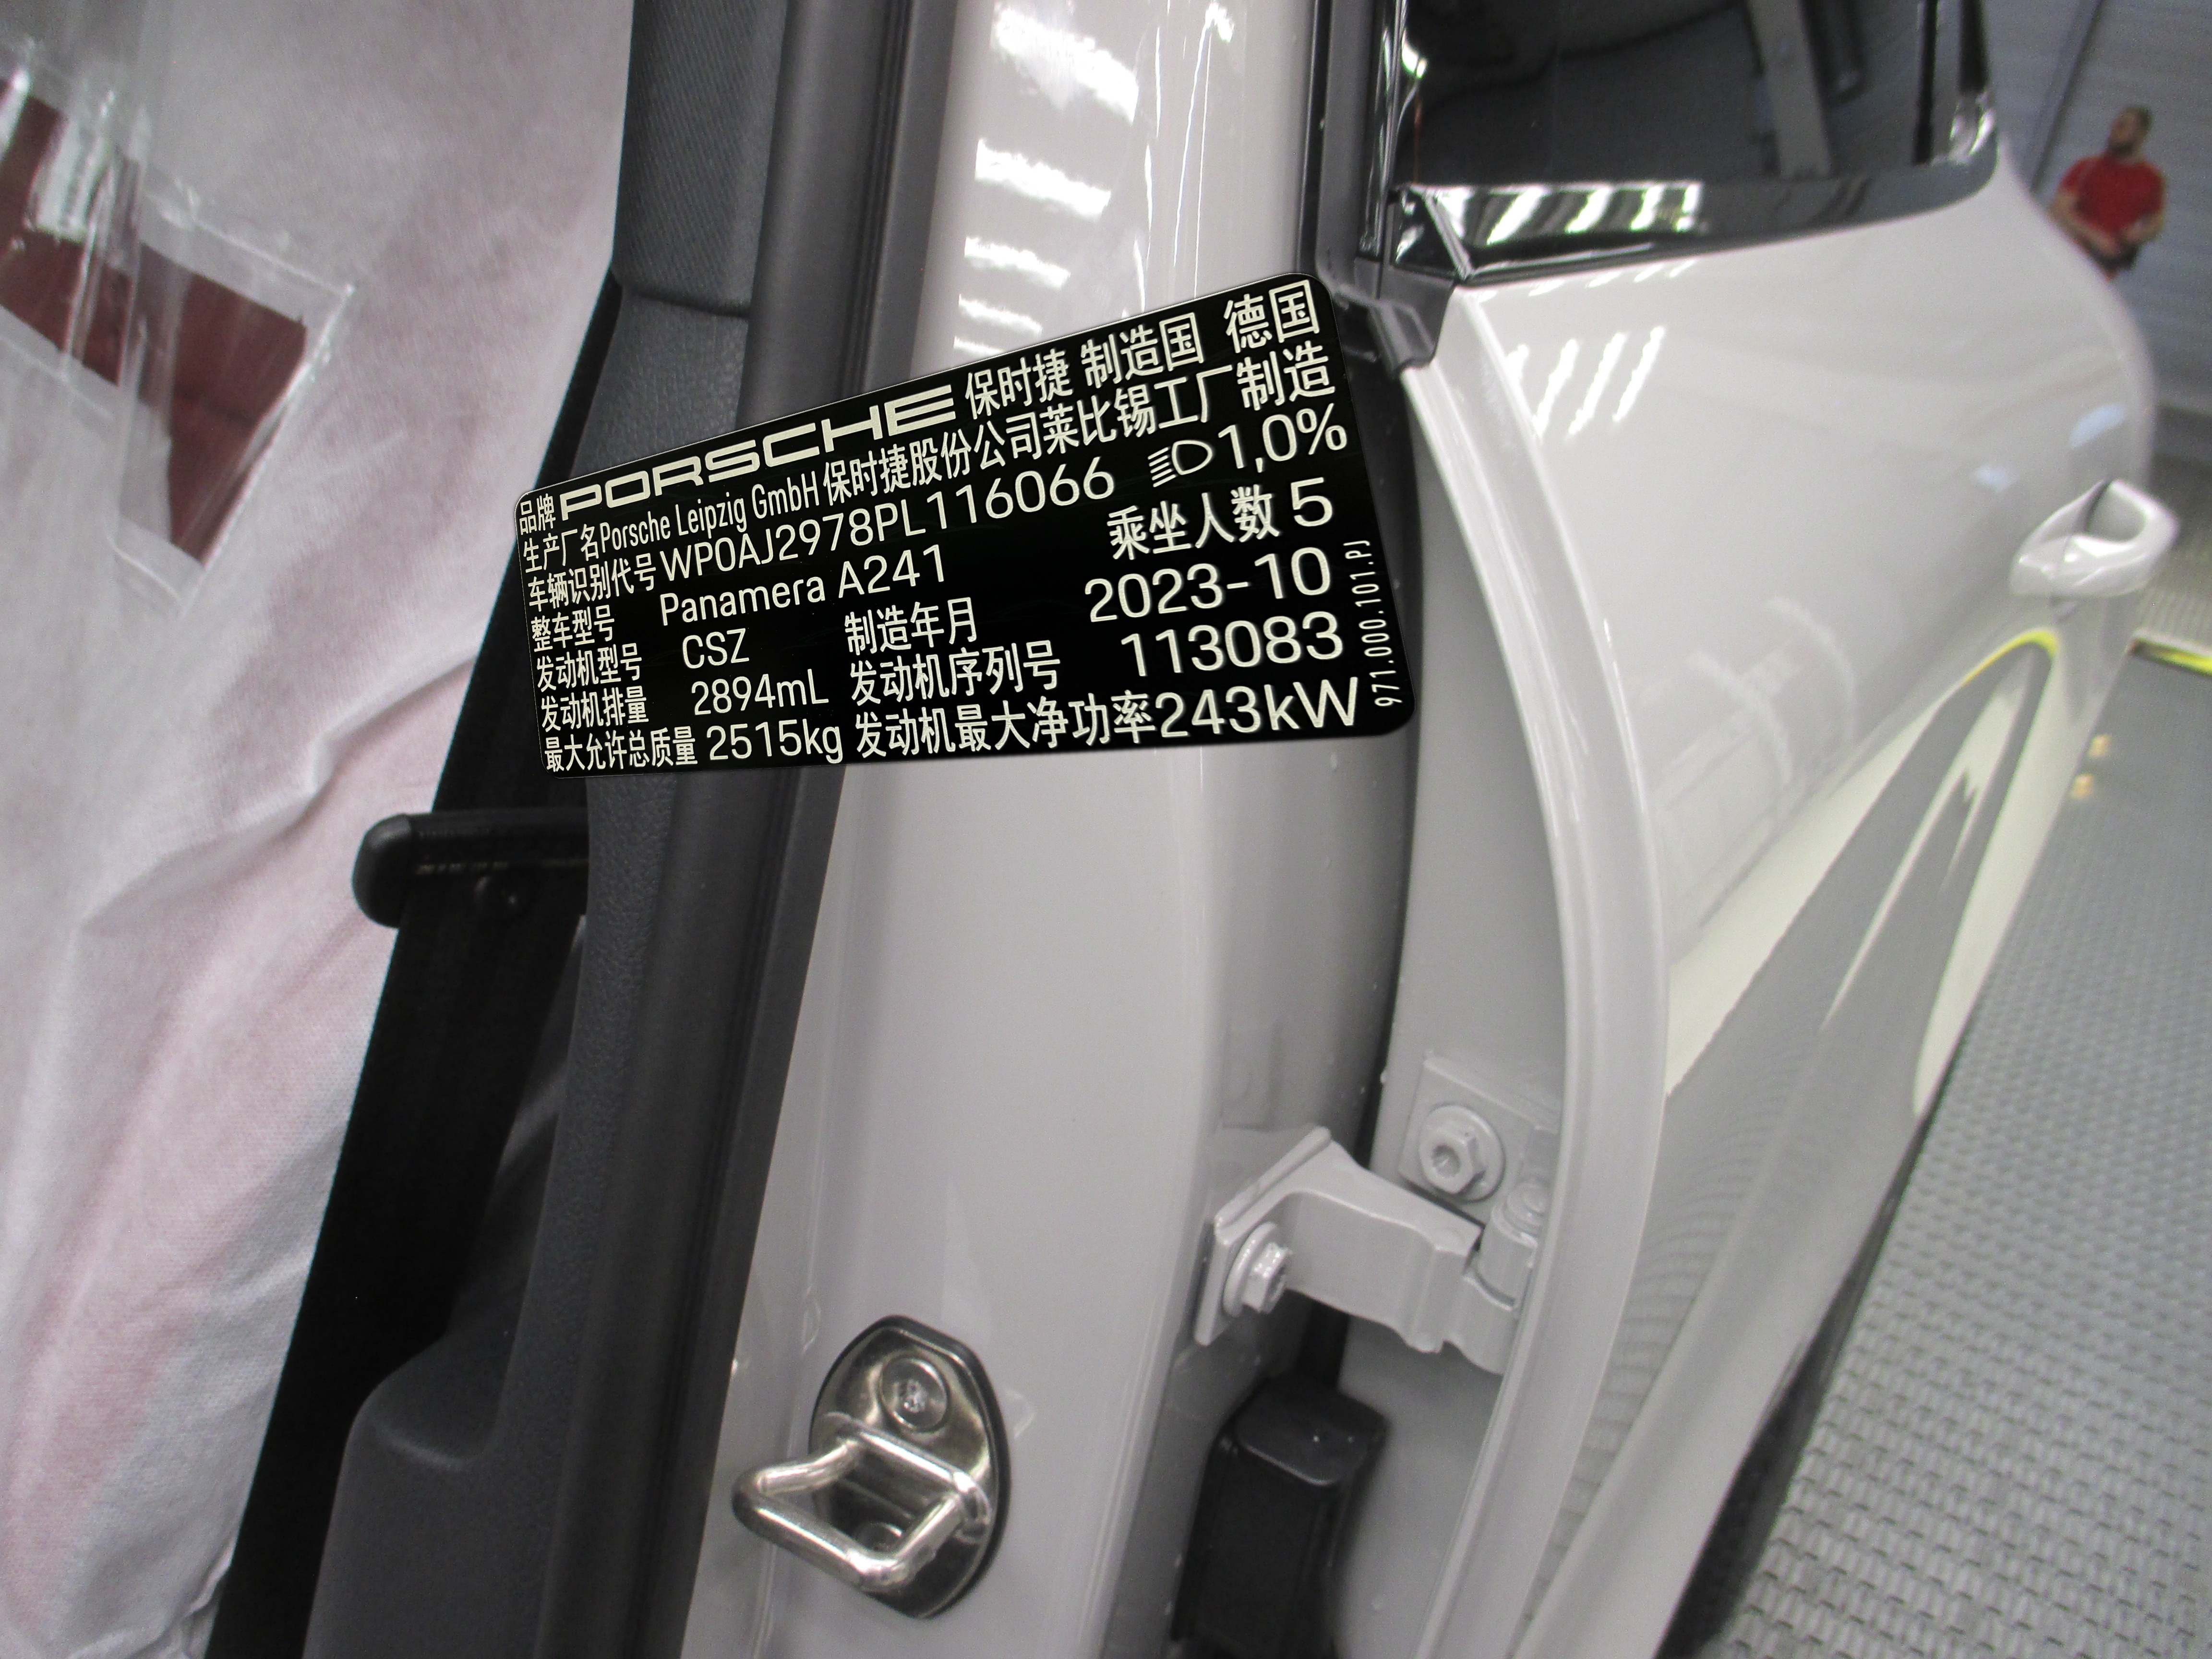Typlabel-China: (514, 274, 1414, 779)
